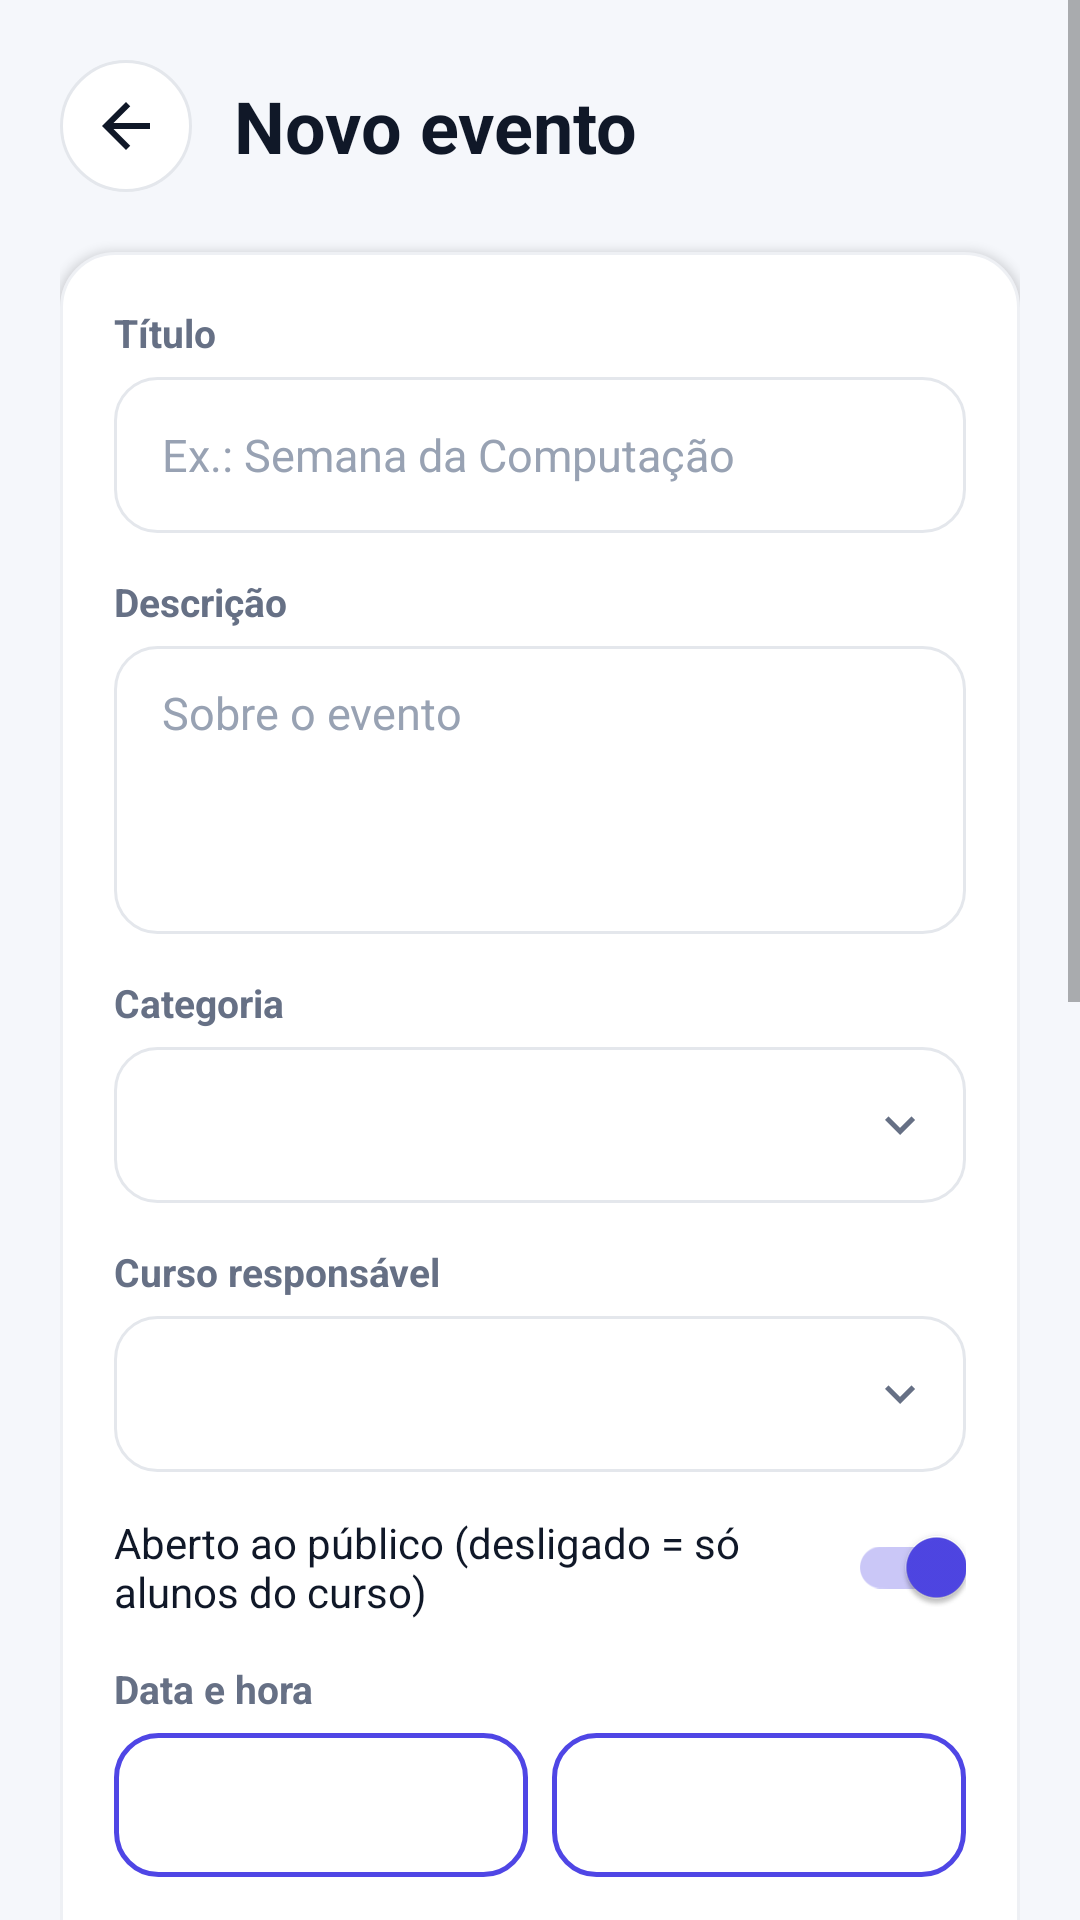

Named icons in this screenshot (1080 x 1920) and their centers, (x,y):
Voltar: (126,126)
